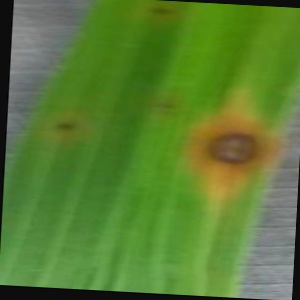Bacterial_Leaf_Blight: (182, 112, 284, 184), (145, 3, 183, 20), (52, 117, 83, 136), (148, 96, 182, 113)
